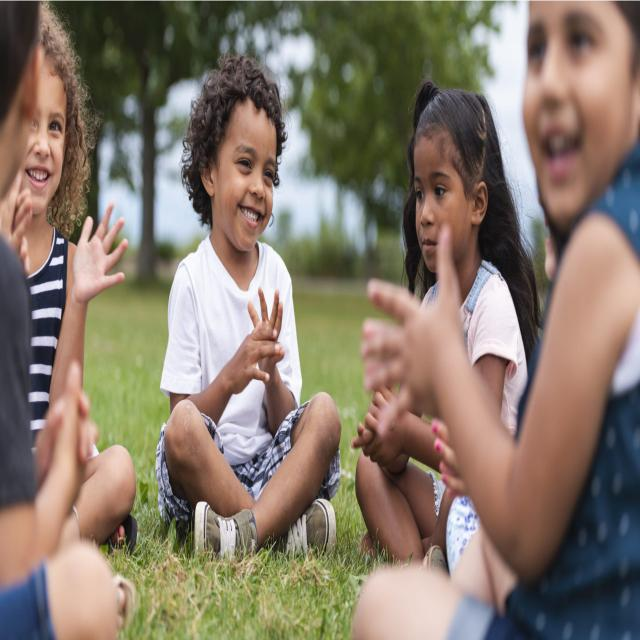child: (358, 2, 640, 640), (153, 44, 343, 559), (354, 63, 531, 592), (19, 5, 137, 552)
